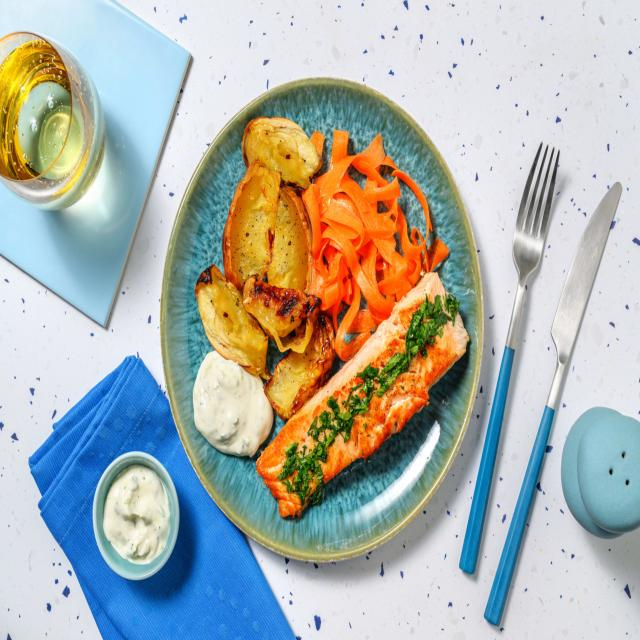papa: (220, 150, 306, 291)
pescado: (273, 269, 456, 527)
